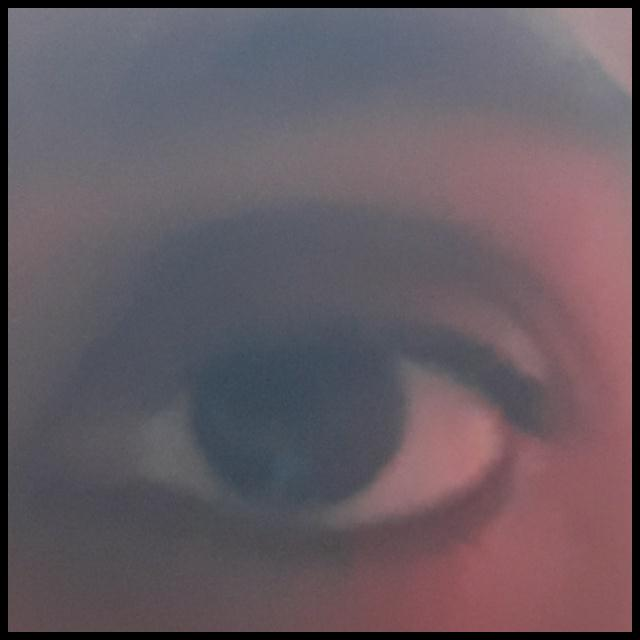eye: (125, 341, 506, 531)
iris: (193, 349, 408, 513)
